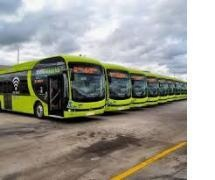bus: (0, 56, 109, 120)
